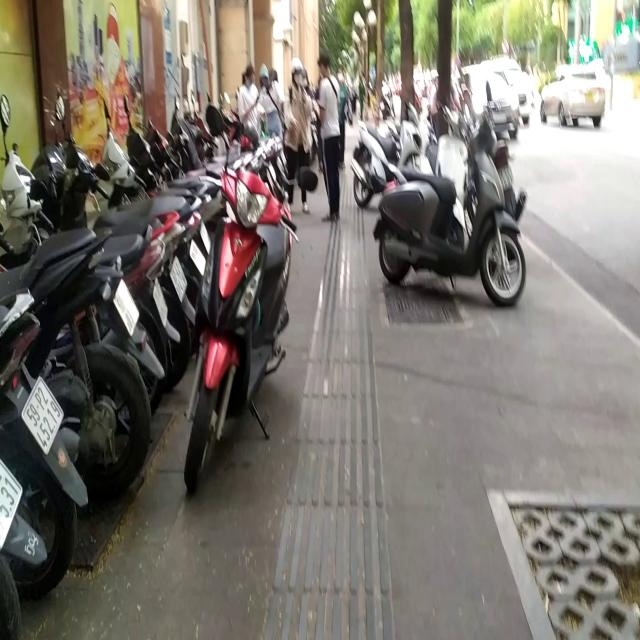bien_trang: (16, 370, 63, 464)
